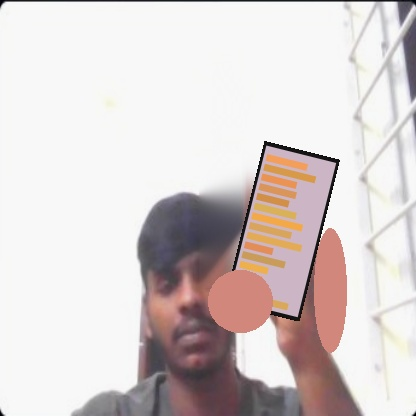cell_phone: (224, 141, 340, 321)
